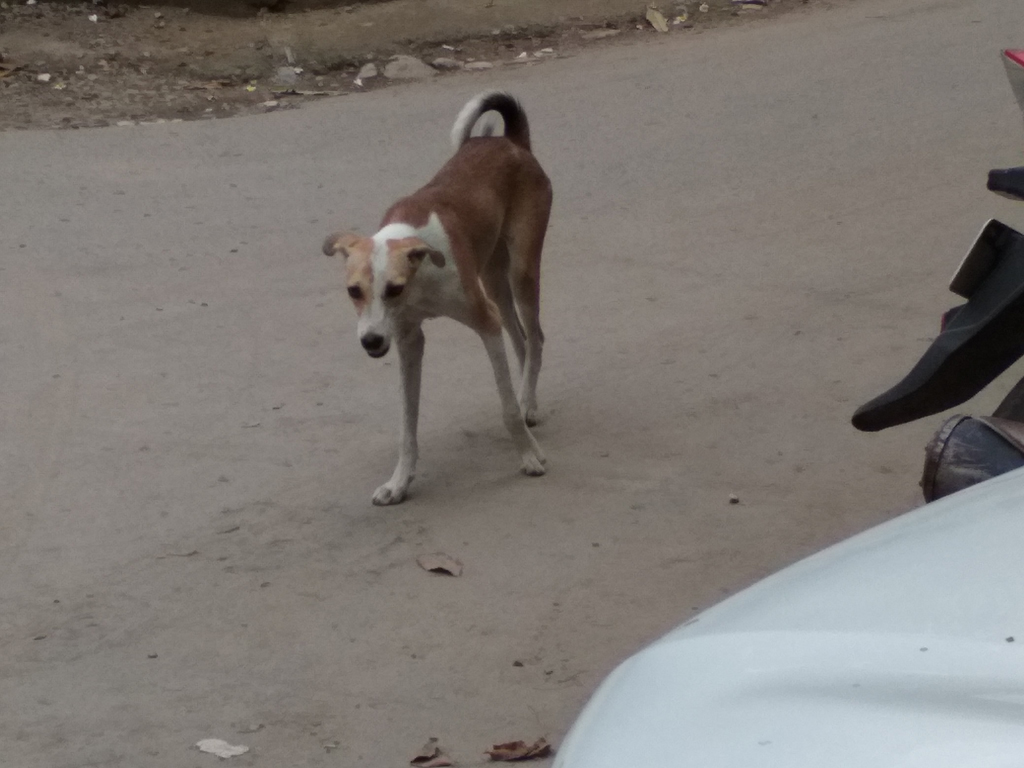dog: (322, 91, 554, 506)
